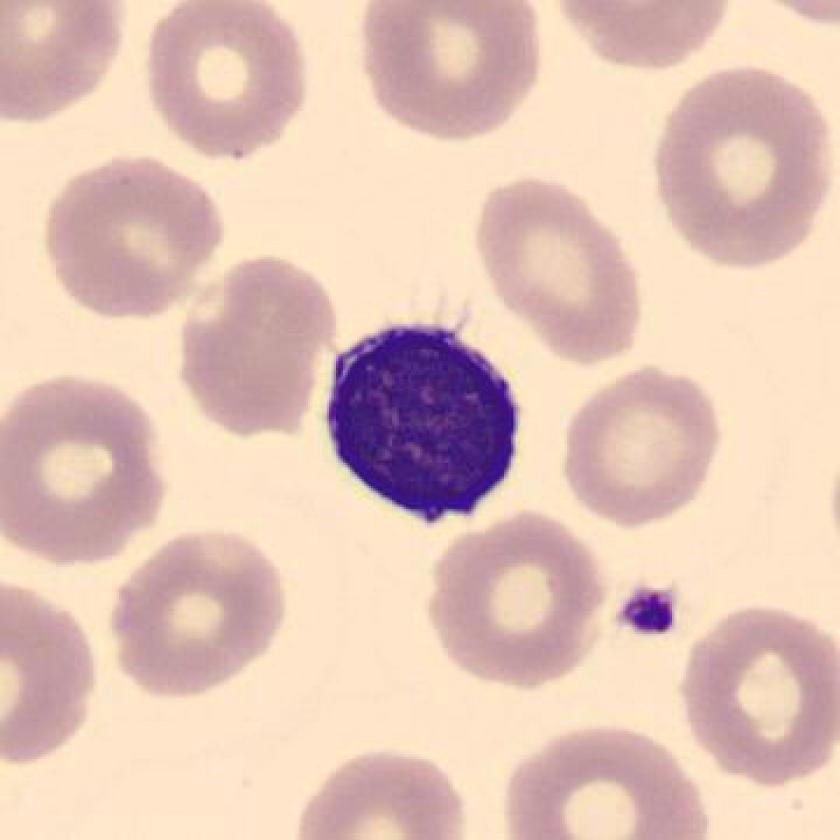lymphocyte: (309, 309, 538, 542)
